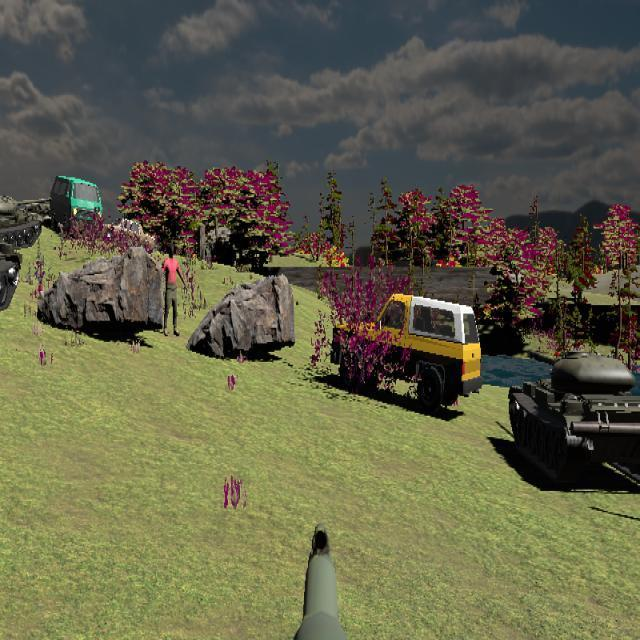Human: (159, 244, 186, 337)
Tank: (507, 350, 640, 486), (0, 193, 43, 250), (0, 222, 23, 316)
car: (331, 292, 482, 407), (49, 175, 103, 237)
